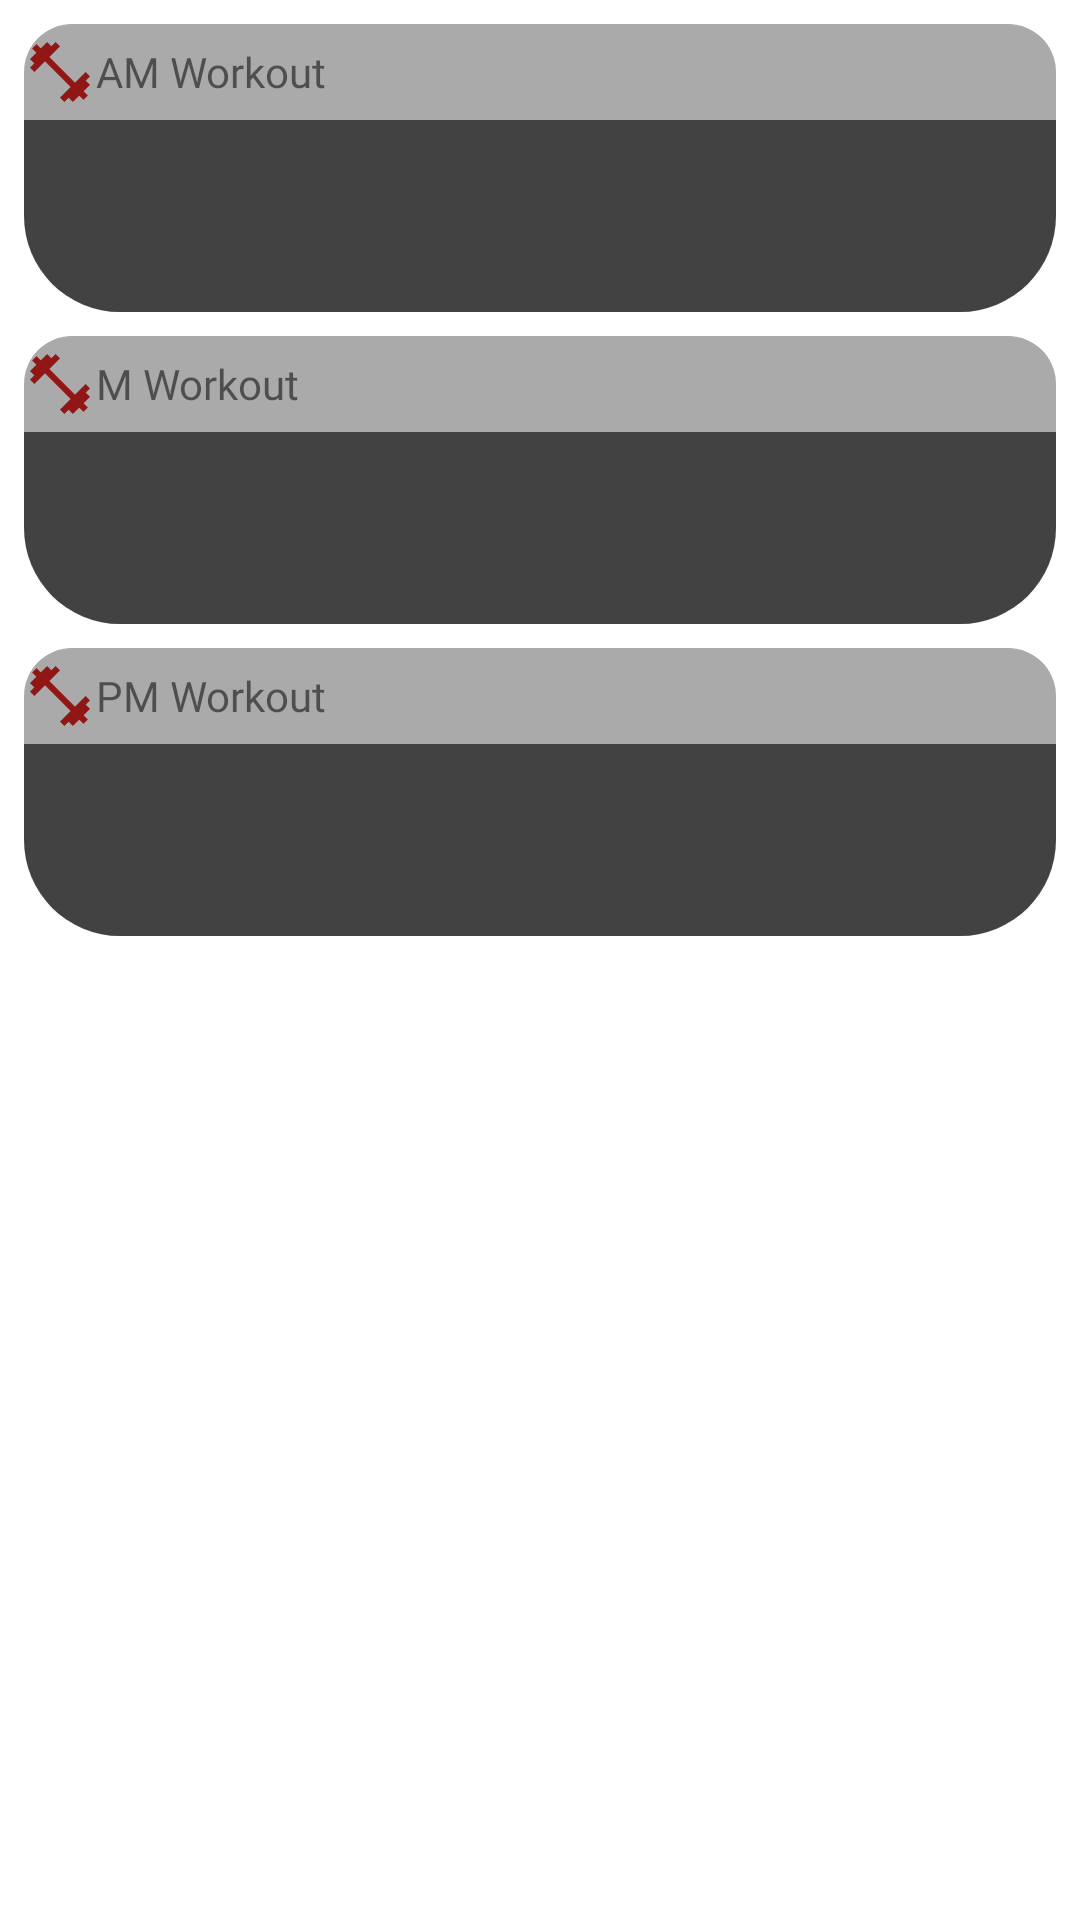

Point at icon controls on the screen. Image size 1080px x 1920px, points as point (x, y).
fitness center: point (60, 72), point (60, 384), point (60, 696)
